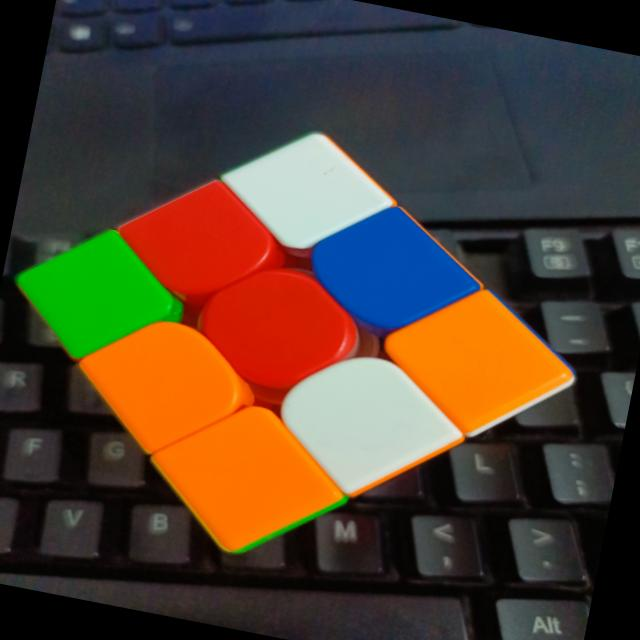rubik: (0, 78, 613, 611)
